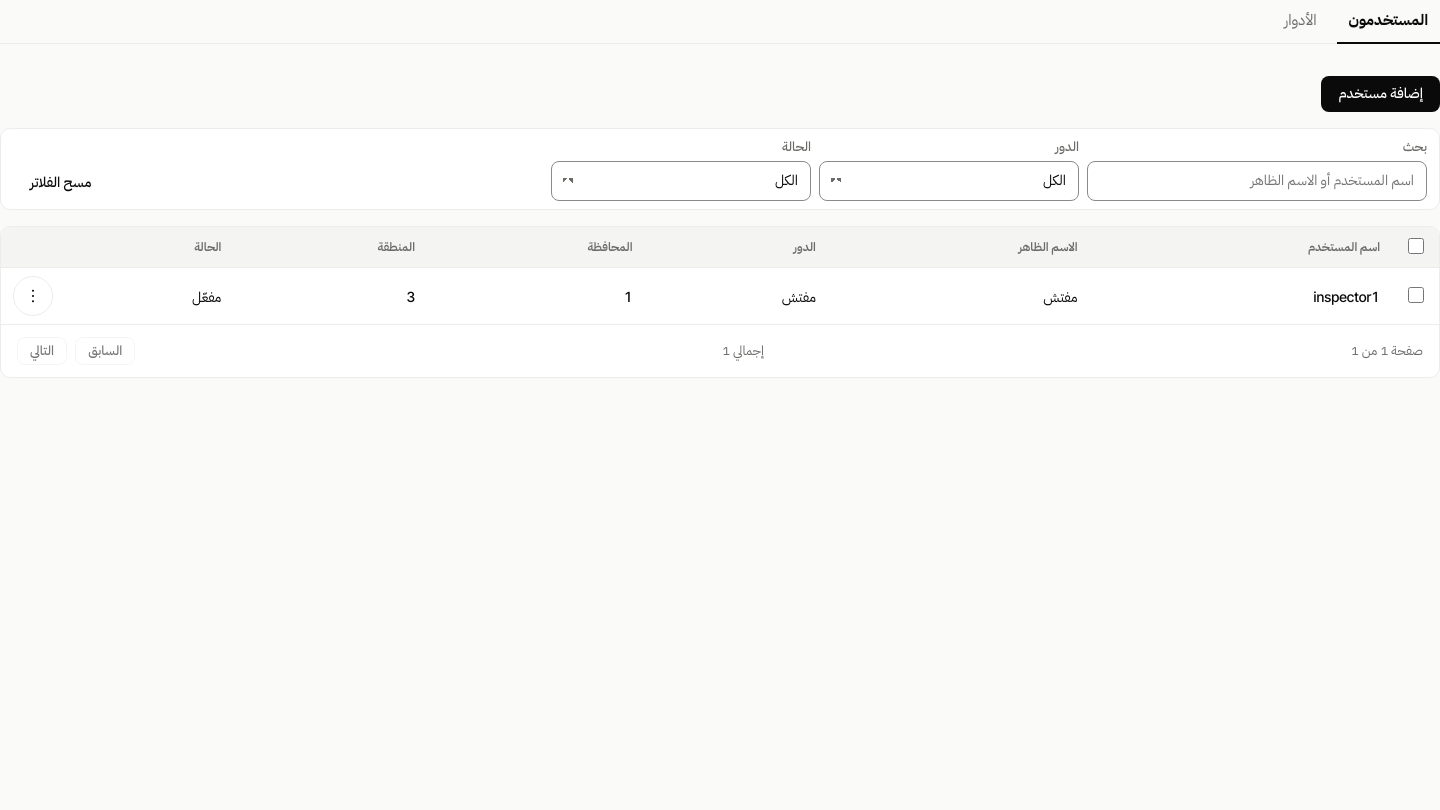
users › deletes a user only after the confirmation
Click the button named "إجراءات" at (33, 296), box [13,276,53,316]
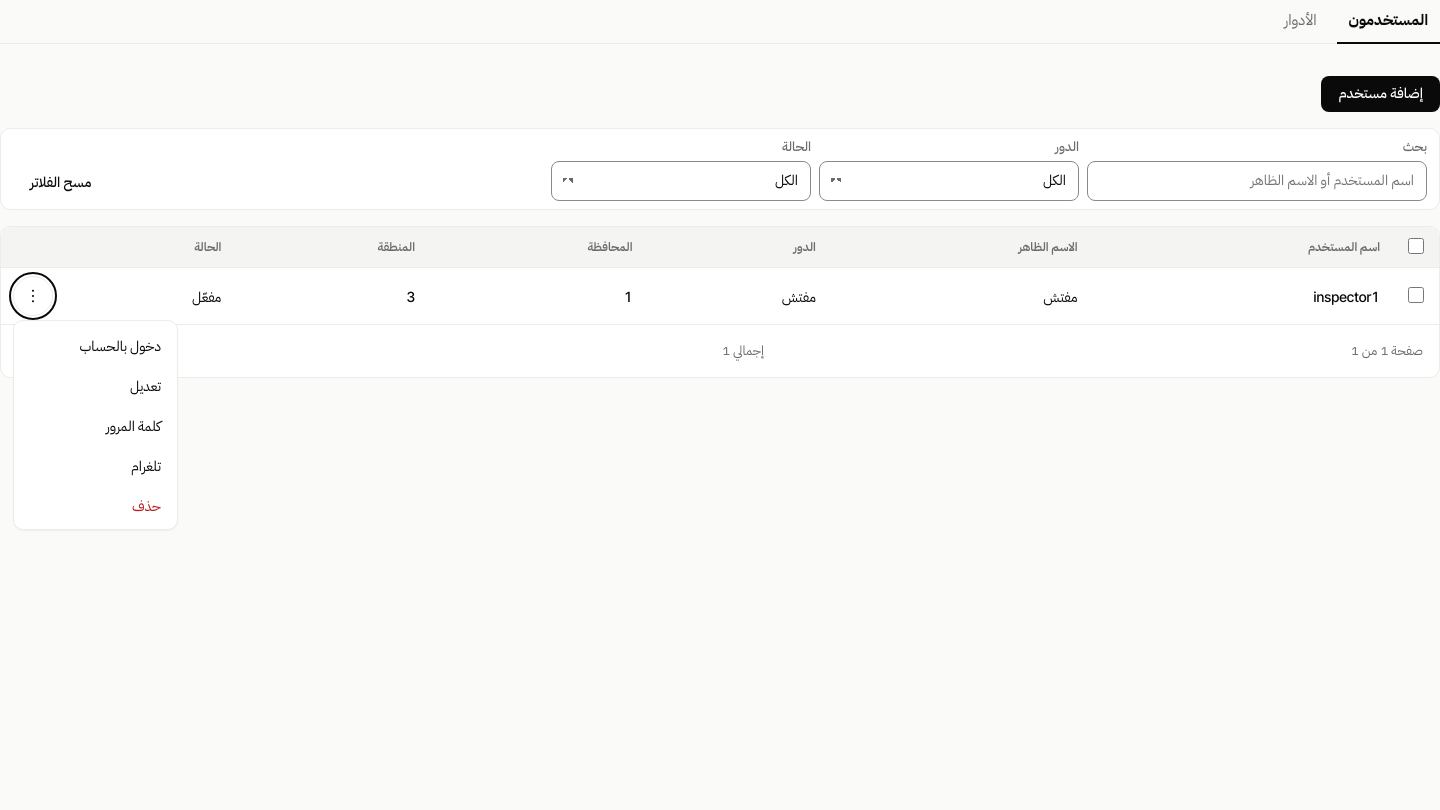
Click the menu item "حذف" at (96, 505), box [18,485,173,525]
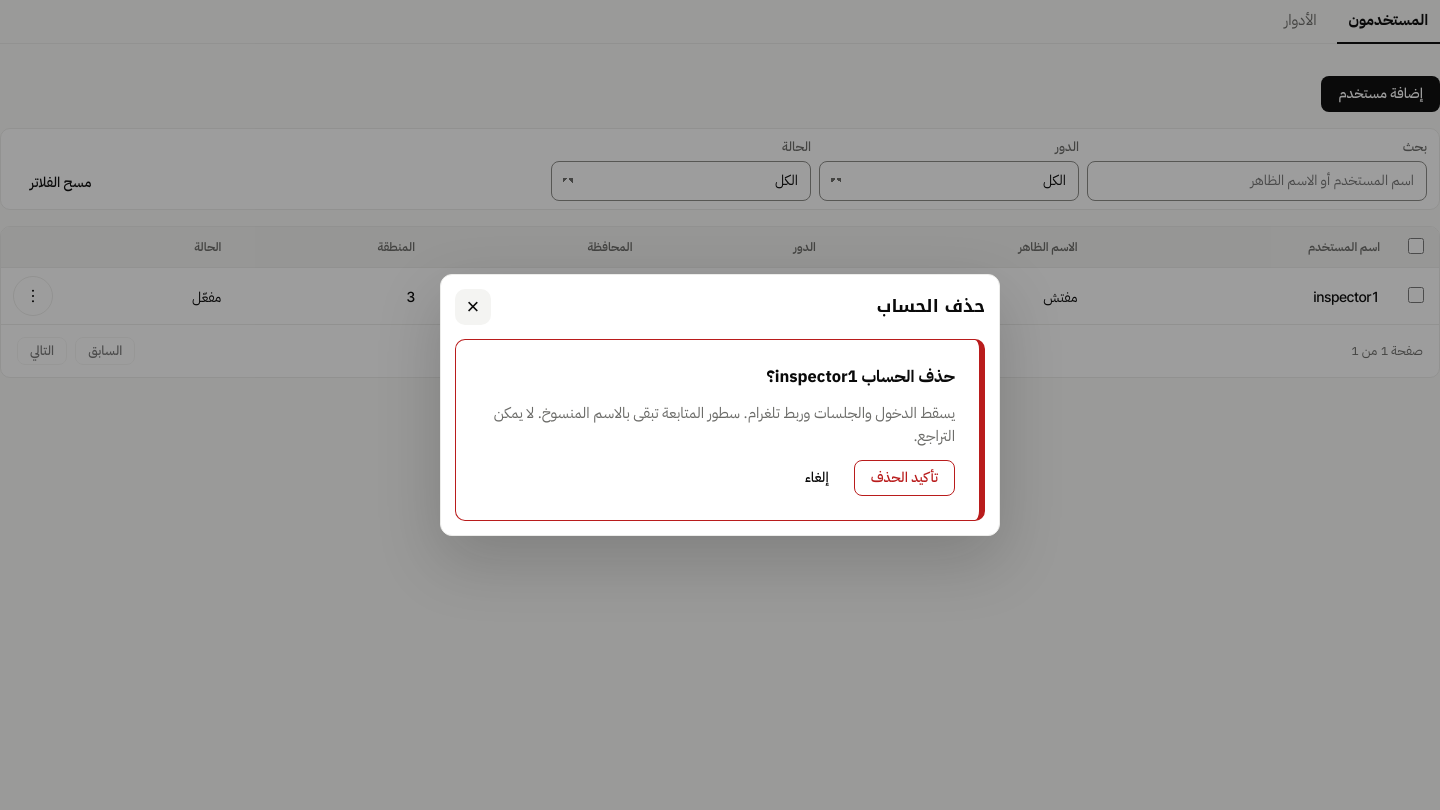
Click the button "تأكيد الحذف" at (904, 478), box [854,460,955,496]
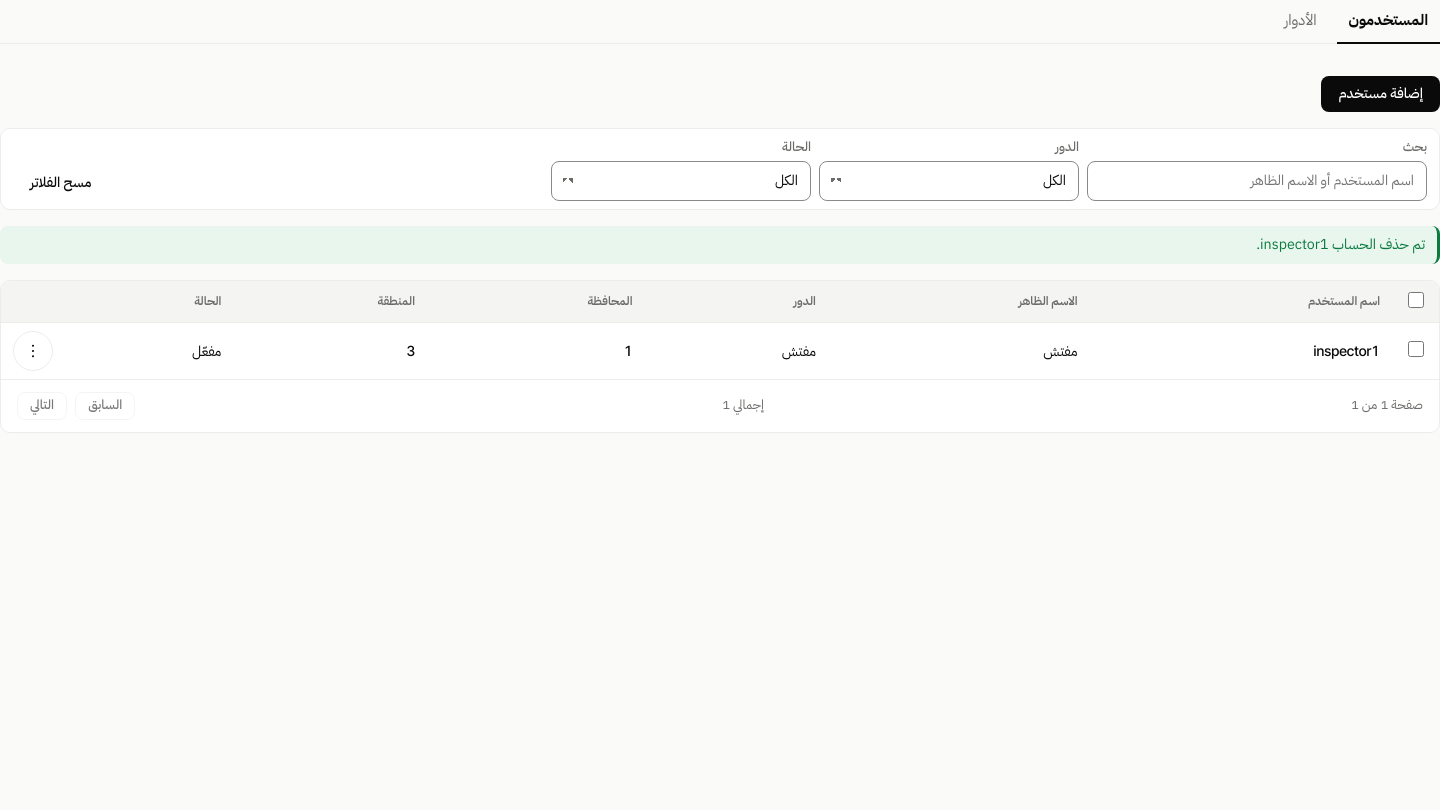
Check: the text "تم حذف الحساب inspector1." is shown, box [0,226,1439,264]
